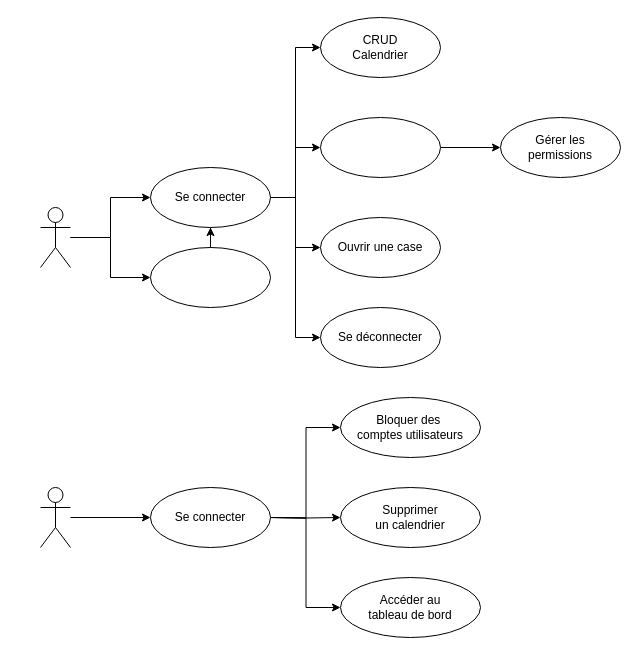
Image size: 638x655. Some labels were removed from this diagram. The box of each missing label's shape, as (x1, y1, x2, y2) in pixels:
Administrateur: (40, 486, 70, 548)
Partager un Calendrier: (320, 116, 440, 178)
S'inscrire: (150, 246, 270, 308)
Utilisateur: (40, 206, 70, 268)
